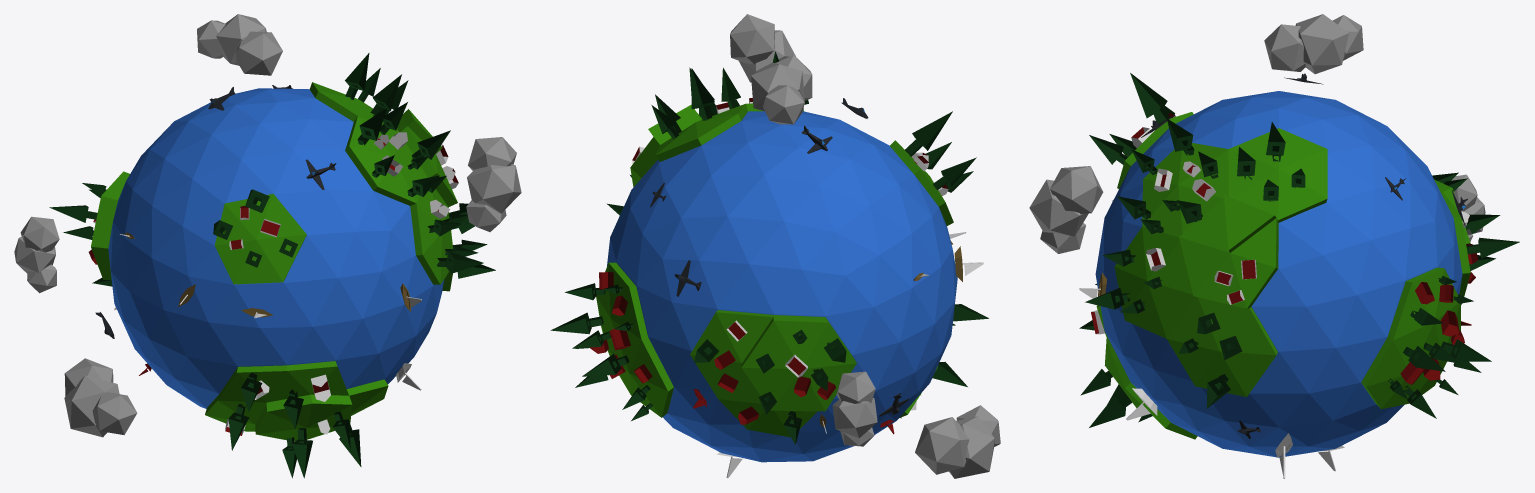
The model's file is planet.obj.
3 renders of one model, left to right at view 1: azimuth 30°, elevation 25°; view 2: azimuth 150°, elevation 25°; view 3: azimuth 270°, elevation 25°, orthographic. The views are drawn at different scales.
Visible parts, largest first — view 1: Icosphere.001, Icosphere, Icosphere.005, Plane.027, Plane.084, Plane.086, Plane.008, Plane.007, Plane.048, Plane.015, Plane.019, Plane.011; view 2: Icosphere.001, Icosphere, Icosphere.005, Plane.027, Plane.086, Plane.025, Plane.008, Plane.040, Plane.041, Plane.028; view 3: Icosphere.001, Icosphere, Icosphere.005, Plane.027, Plane.084, Plane.025, Plane.086, Plane.049, Plane.041, Plane.035, Plane.015, Plane.019 (+1 smaller).
Part boxes in pixels (left/top/right/bottom): Icosphere.001: left=108, top=88, right=444, bottom=408; Icosphere: left=91, top=82, right=457, bottom=441; Icosphere.005: left=14, top=14, right=521, bottom=437; Plane.027: left=88, top=132, right=458, bottom=435; Plane.084: left=114, top=232, right=421, bottom=390; Plane.086: left=95, top=85, right=336, bottom=338; Plane.008: left=345, top=53, right=369, bottom=99; Plane.007: left=370, top=74, right=401, bottom=116; Plane.048: left=292, top=428, right=312, bottom=478; Plane.015: left=357, top=108, right=386, bottom=145; Plane.019: left=437, top=251, right=483, bottom=273; Plane.011: left=411, top=130, right=450, bottom=159; Icosphere.001: left=607, top=111, right=957, bottom=462; Icosphere: left=596, top=103, right=953, bottom=437; Icosphere.005: left=730, top=14, right=1000, bottom=478; Plane.027: left=590, top=98, right=948, bottom=424; Plane.086: left=650, top=98, right=908, bottom=416; Plane.025: left=905, top=111, right=952, bottom=156; Plane.008: left=691, top=68, right=714, bottom=120; Plane.040: left=550, top=312, right=603, bottom=334; Plane.041: left=582, top=353, right=629, bottom=376; Plane.028: left=933, top=157, right=976, bottom=190; Icosphere.001: left=1095, top=91, right=1462, bottom=457; Icosphere: left=1096, top=112, right=1470, bottom=439; Icosphere.005: left=1029, top=14, right=1485, bottom=253; Plane.027: left=1091, top=113, right=1478, bottom=384; Plane.084: left=1079, top=200, right=1344, bottom=478; Plane.025: left=1130, top=73, right=1169, bottom=122; Plane.086: left=1141, top=73, right=1467, bottom=438; Plane.049: left=1089, top=395, right=1131, bottom=427; Plane.041: left=1441, top=339, right=1491, bottom=361; Plane.035: left=1466, top=237, right=1519, bottom=258; Plane.015: left=1166, top=118, right=1194, bottom=155; Plane.019: left=1085, top=288, right=1130, bottom=309.
Size of the model in its own units: 2.81 by 2.73 by 2.79.
